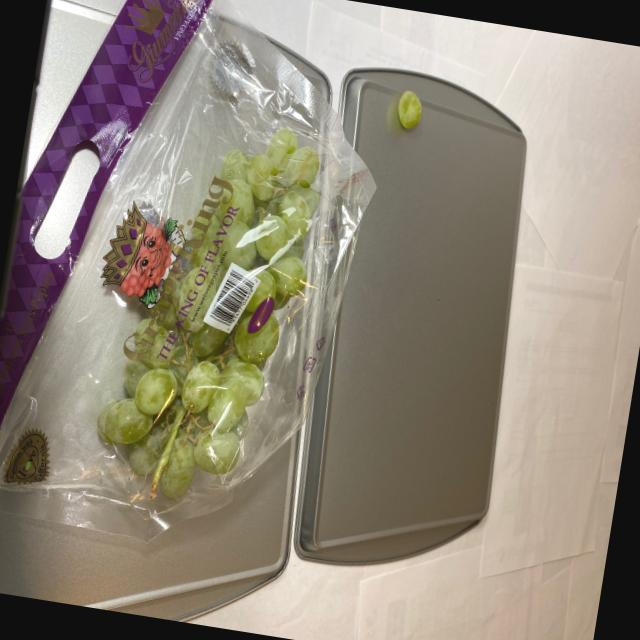grapes: (79, 113, 336, 534)
